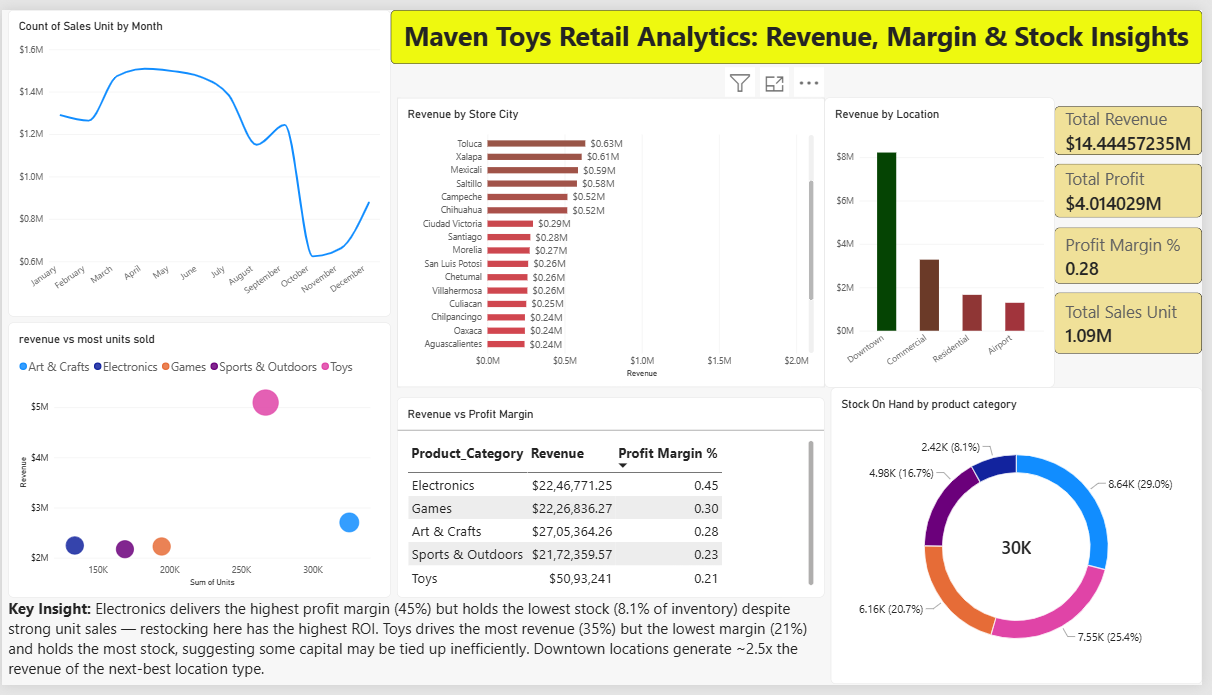

What the dashboard file says about the page in this screenshot:
{"tool":"powerbi","page":{"name":"Page 1","canvas":[1920,1080],"ordinal":0},"visuals":[{"type":"lineChart","title":"Count of Sales Unit by Month","fields":{"Category":["Date.Date.Variation.Date Hierarchy.Month"],"Y":["sales.Revenue"]},"box":[10,0,612,490],"z":0},{"type":"scatterChart","title":"revenue vs most units sold","fields":{"Category":["products.Product_Category"],"Series":["products.Product_Category"],"Size":["sales.Revenue"],"X":["Sum(sales.Units)"],"Y":["sales.Revenue"]},"box":[10,500,612,440],"z":1000},{"type":"clusteredBarChart","title":"Revenue by Store City","fields":{"Category":["stores.Store_City"],"Y":["sales.Revenue"]},"box":[632,140,684,464],"z":2000},{"type":"tableEx","title":"Revenue vs Profit Margin","fields":{"Values":["products.Product_Category","sales.Revenue","sales.Profit Margin %"]},"box":[632,620,684,320],"z":3000},{"type":"donutChart","title":" Stock On Hand by product category","fields":{"Category":["products.Product_Category"],"Y":["Sum(inventory.Stock_On_Hand)"]},"box":[1326,604,594,474],"z":4000},{"type":"cardVisual","title":"Total Revenue","fields":{"Data":["sales.Revenue"]},"box":[1684,154,236,78],"z":5000},{"type":"cardVisual","fields":{"Data":["sales.Total Profit"]},"box":[1684,246,236,86],"z":6000},{"type":"cardVisual","fields":{"Data":["sales.Profit Margin %"]},"box":[1684,348,236,90],"z":7000},{"type":"cardVisual","fields":{"Data":["Sum(sales.Units)"]},"box":[1684,452,236,98],"z":8000},{"type":"textbox","box":[622,0,1298,86],"z":9000},{"type":"textbox","box":[10,940,1306,140],"z":10000},{"type":"clusteredColumnChart","title":"Revenue by Location","fields":{"Category":["stores.Store_Location"],"Y":["sales.Revenue"]},"box":[1316,140,368,464],"z":11000}]}

Visuals, with their boxes in screenshot pixels (x1, y1, x2, y2), scaled from the page's 1920x1080 canvas onto the 1212x695 screenshot:
"Count of Sales Unit by Month" lineChart: bbox(6, 0, 393, 315)
"revenue vs most units sold" scatterChart: bbox(6, 322, 393, 605)
"Revenue by Store City" clusteredBarChart: bbox(399, 90, 831, 389)
"Revenue vs Profit Margin" tableEx: bbox(399, 399, 831, 605)
" Stock On Hand by product category" donutChart: bbox(837, 389, 1211, 694)
"Total Revenue" cardVisual: bbox(1063, 99, 1211, 149)
cardVisual - sales.Total Profit: bbox(1063, 158, 1211, 214)
cardVisual - sales.Profit Margin %: bbox(1063, 224, 1211, 282)
cardVisual - Sum(sales.Units): bbox(1063, 291, 1211, 354)
textbox: bbox(393, 0, 1211, 55)
textbox: bbox(6, 605, 831, 694)
"Revenue by Location" clusteredColumnChart: bbox(831, 90, 1063, 389)
